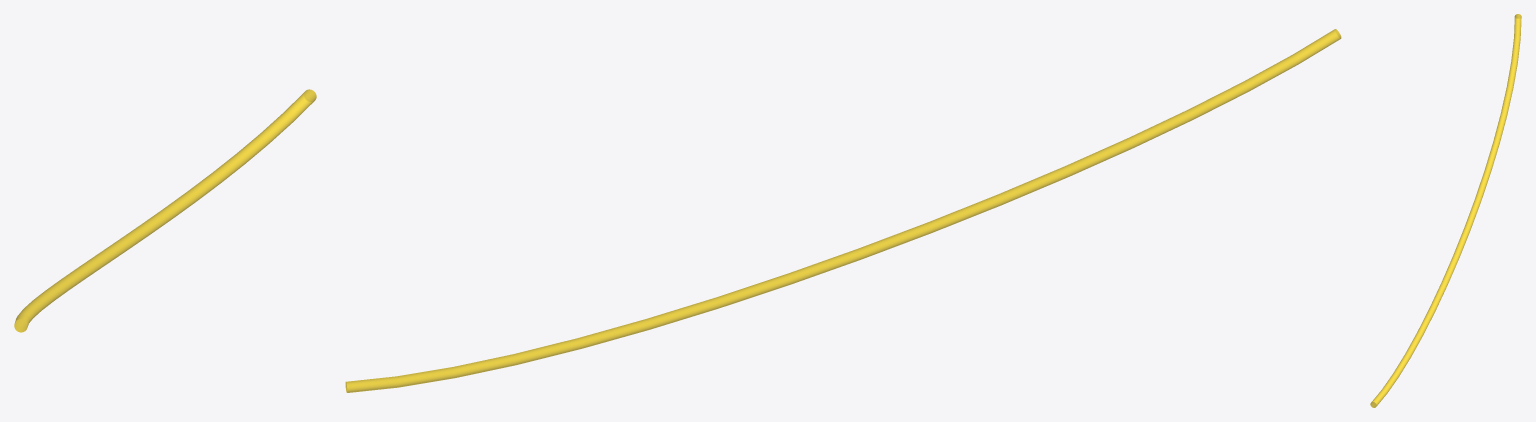
The model's file is Event_402970704_track_26.fbx.
The picture shows the model from 3 angles, left to right: view 1: azimuth 90°, elevation 25°; view 2: azimuth 210°, elevation 25°; view 3: azimuth 270°, elevation 25°; orthographic projection. The views are drawn at different scales.
Visible parts, largest first — view 1: Model; view 2: Model; view 3: Model.
Boxes of the visible parts, x1,y1,x2,y2 form: Model: [14, 89, 316, 332]; Model: [345, 29, 1341, 392]; Model: [1370, 14, 1521, 407].
Bounding box in the file's own units: 3.51 × 0.9248 × 0.8877.
